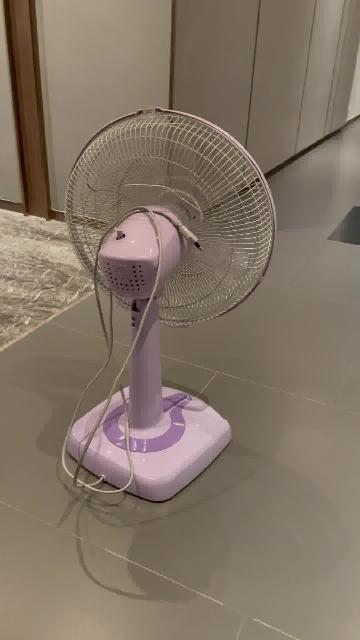Fan: (66, 109, 278, 504)
